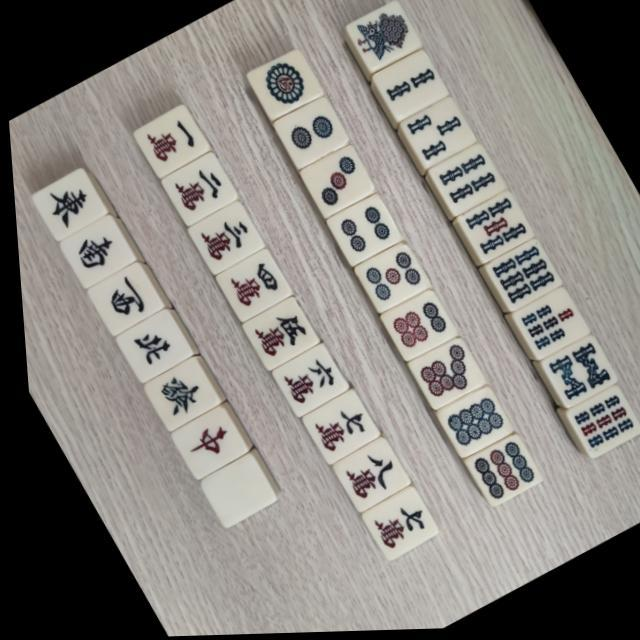hdg: (137, 362, 210, 429)
hdr: (164, 410, 237, 474)
hdw: (192, 459, 266, 526)
hwe: (28, 171, 102, 238)
hwn: (110, 313, 184, 380)
hws: (57, 219, 129, 285)
hww: (82, 264, 156, 334)
sb1: (344, 4, 420, 74)
sb2: (371, 52, 446, 122)
sb3: (398, 101, 472, 169)
sb4: (426, 149, 501, 216)
sb5: (455, 195, 528, 262)
sb6: (481, 242, 556, 312)
sb7: (506, 291, 582, 361)
sb8: (536, 340, 610, 410)
sb9: (559, 391, 633, 458)
sc1: (130, 108, 204, 176)
sc2: (158, 156, 232, 224)
sc3: (184, 206, 258, 274)
sc4: (212, 252, 286, 320)
sc5: (238, 301, 312, 368)
sc6: (266, 348, 341, 416)
sc7: (354, 490, 429, 560), (296, 394, 370, 462)
sc8: (324, 440, 400, 510)
sd1: (246, 51, 322, 120)
sd2: (270, 100, 346, 166)
sd3: (296, 148, 372, 218)
sd4: (324, 198, 397, 264)
sd5: (350, 245, 424, 312)
sd6: (376, 294, 451, 362)
sd7: (404, 340, 478, 410)
sd8: (431, 390, 505, 456)
sd9: (459, 437, 534, 507)
